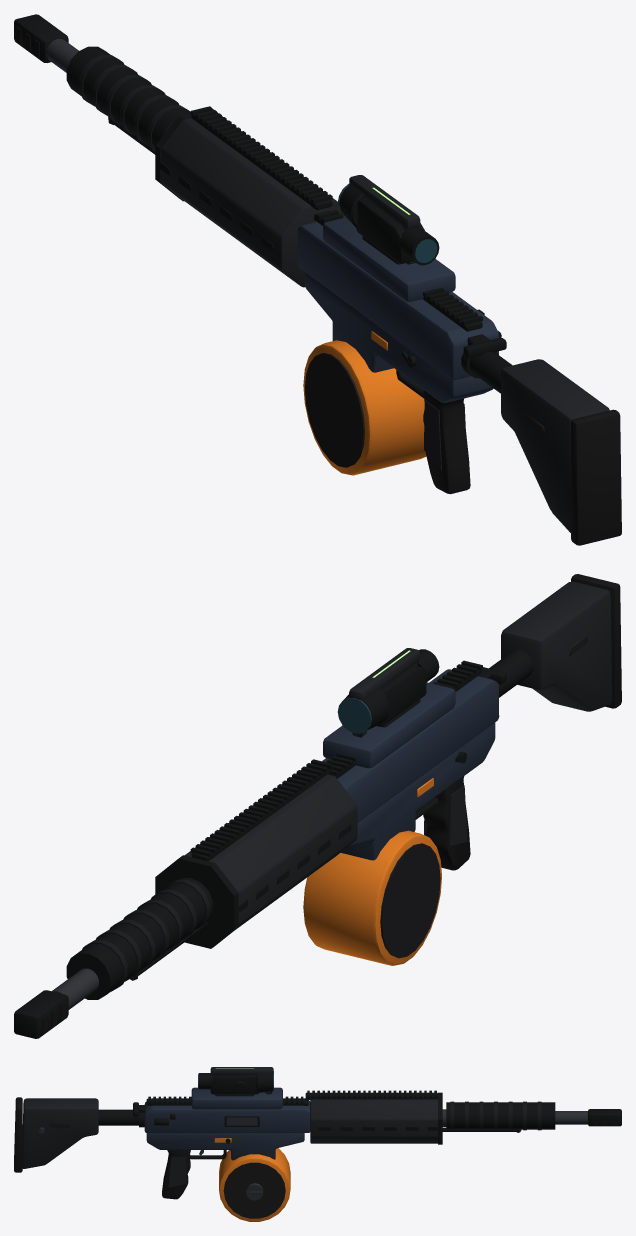
Rendered from gun_40.glb.
The picture shows the model from 3 angles, top to bottom: view 1: azimuth 30°, elevation 25°; view 2: azimuth 150°, elevation 25°; view 3: azimuth 270°, elevation 25°; orthographic projection. The views are drawn at different scales.
Visible parts, largest first — view 1: gun_40; view 2: gun_40; view 3: gun_40.
Boxes of the visible parts, box(x1,y1,x2,y2) form: gun_40: box(14, 14, 621, 545); gun_40: box(14, 574, 621, 1038); gun_40: box(14, 1067, 621, 1221).
Bounding box in the file's own units: 0.1078 × 0.3307 × 1.25.
